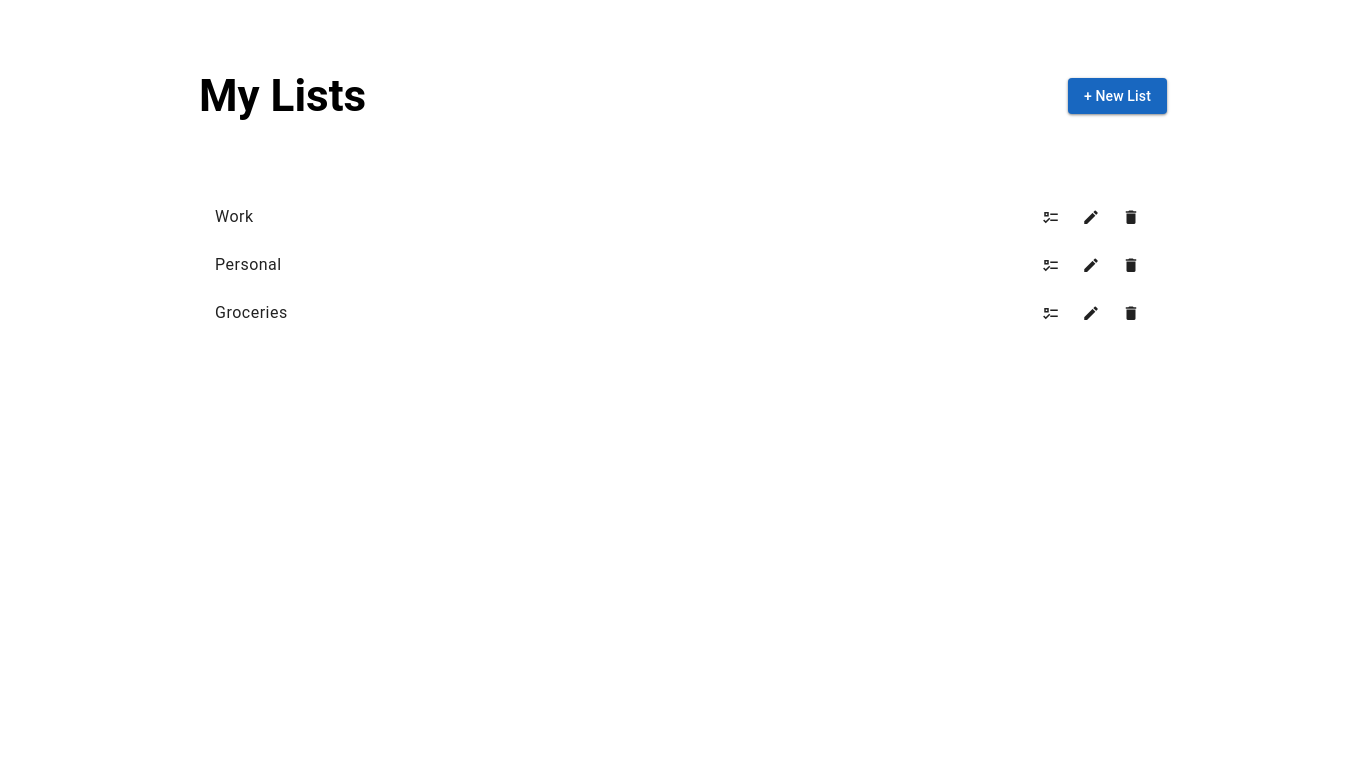
Scenario: Feature 3 — Dashboard items dialogs › US-3.2 — View tasks in a list › User opens items for different lists
The width and height of the screenshot is (1366, 768).
Click the button named "View items for Personal" at (1051, 265), box [1031,245,1071,285]
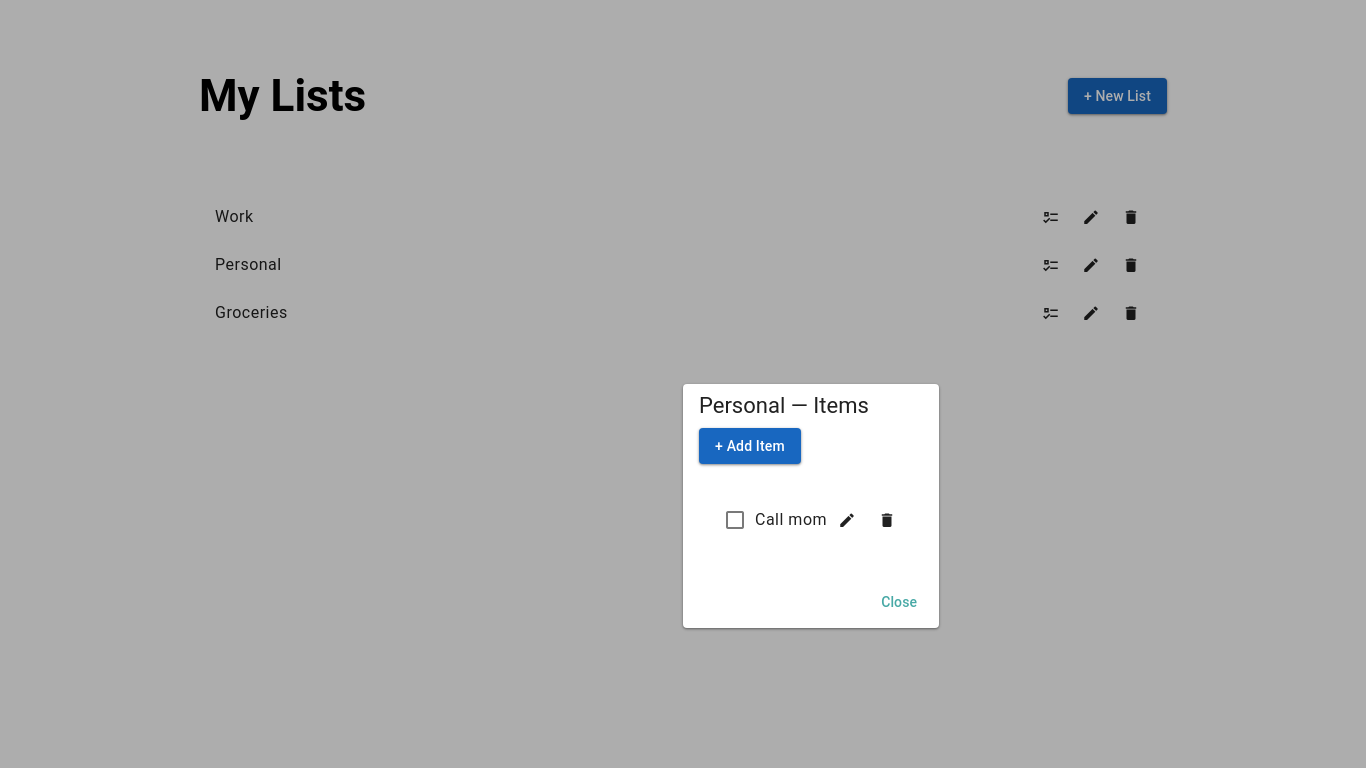
Check: the text "Email client" is not shown
Check: the text "Call mom" is shown, box [755,508,827,532]
Check: the button "Close" is shown
Click the button "Close" at (899, 602), box [867,584,931,620]
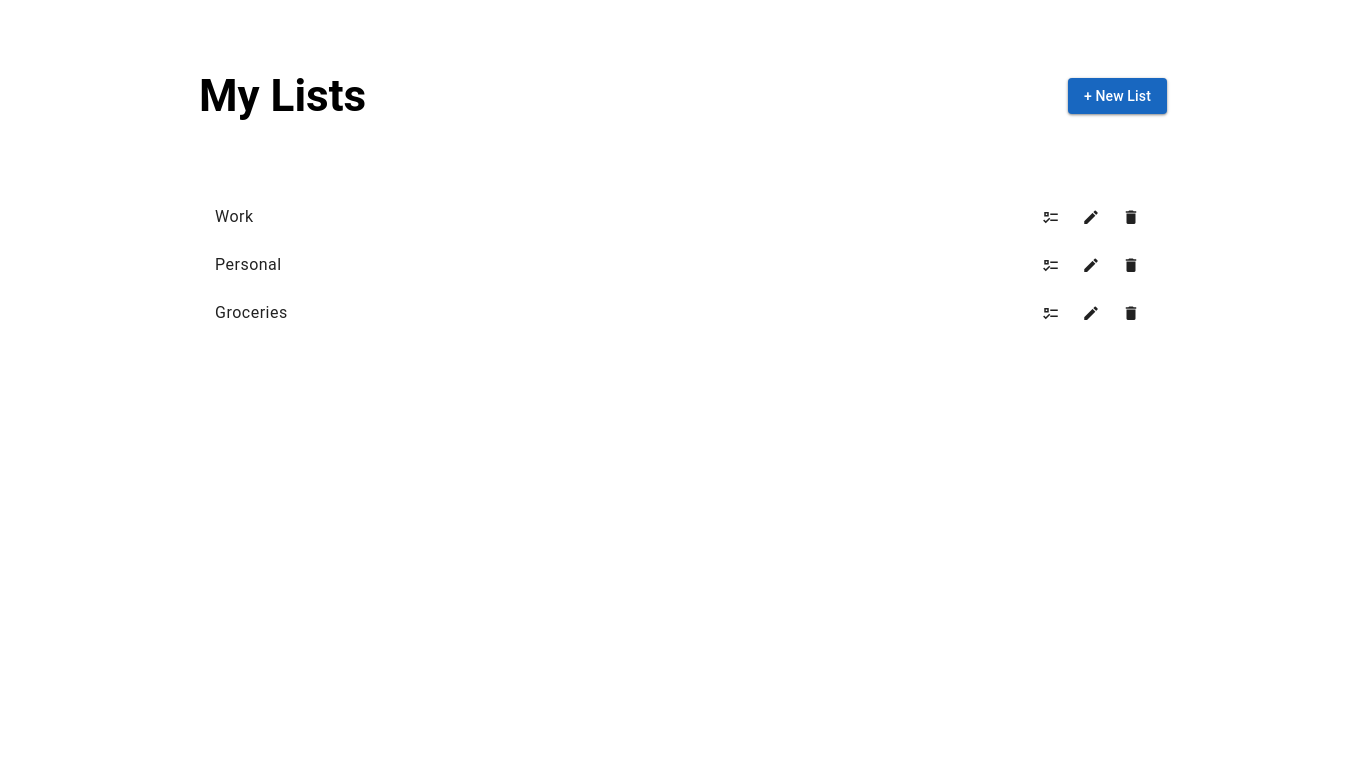
Click the button named "View items for Work" at (1051, 217), box [1031,197,1071,237]
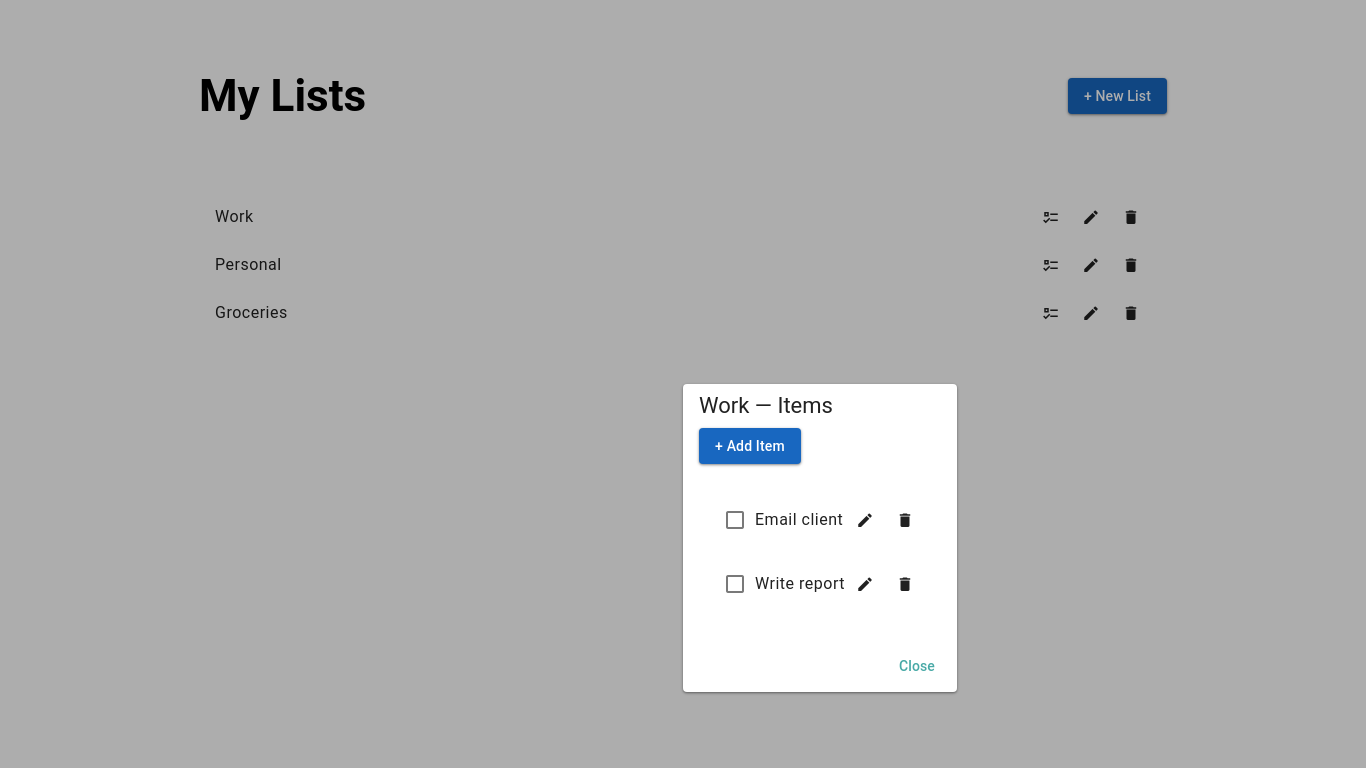
Check: the text "Call mom" is not shown
Check: the text "Email client" is shown, box [755,508,845,532]
Check: the text "Write report" is shown, box [755,572,845,596]
